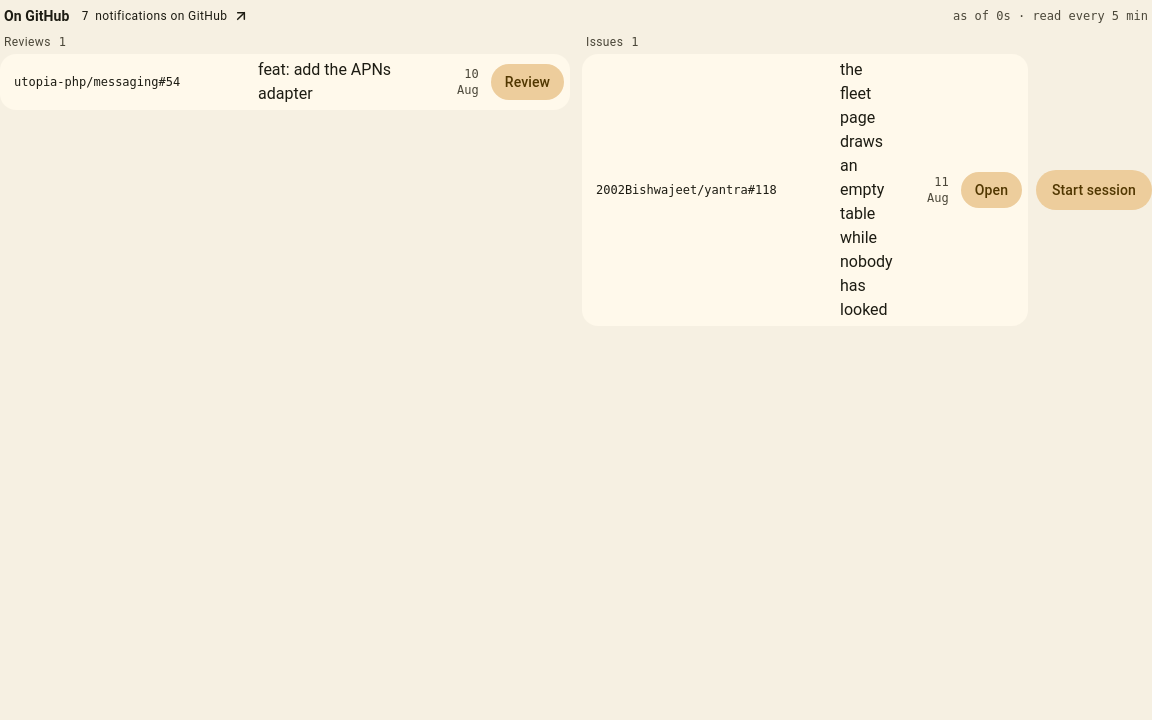
Test: Start session › opens a picker of the workspaces that hold the repository, with the machine and its reason
Step 1. Click the button with aria-label "Start session on 2002Bishwajeet/yantra#118" → (1094, 190), box [1036, 170, 1151, 210]
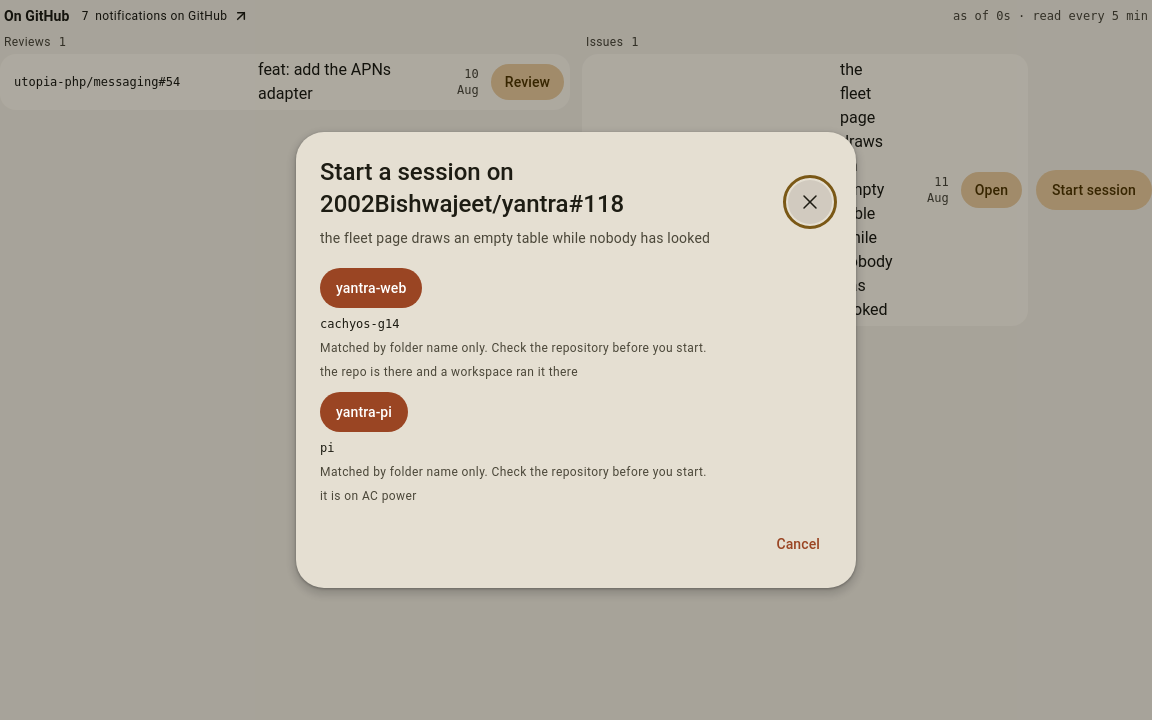
Expected: the heading "Start a session on 2002Bishwajeet/yantra#118" is shown, [320, 158, 624, 218]
Expected: the list item that starts with "yantra-web" shows "cachyos-g14", [320, 317, 400, 331]
Expected: the list item that starts with "yantra-web" shows "the repo is there and a workspace ran it there", [320, 365, 578, 379]
